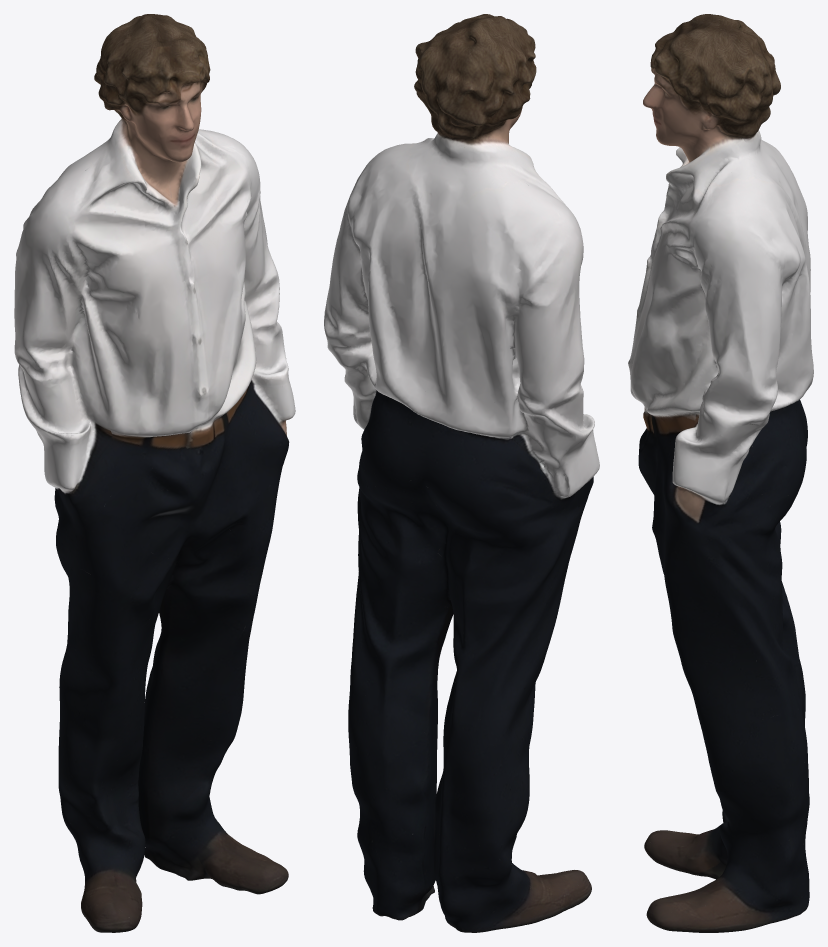
3 renders of one model, left to right at view 1: azimuth 30°, elevation 25°; view 2: azimuth 150°, elevation 25°; view 3: azimuth 270°, elevation 25°, orthographic.
Bounding box in the file's own units: 0.5641 × 1.9 × 0.3666.
Materials: 1 (1 with a texture image).
